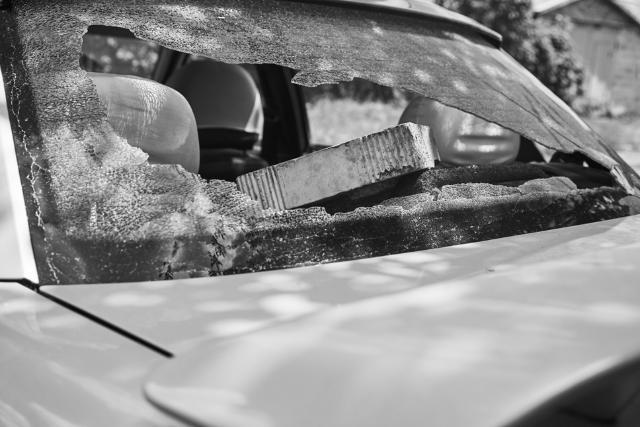Windshield: (3, 0, 636, 235)
